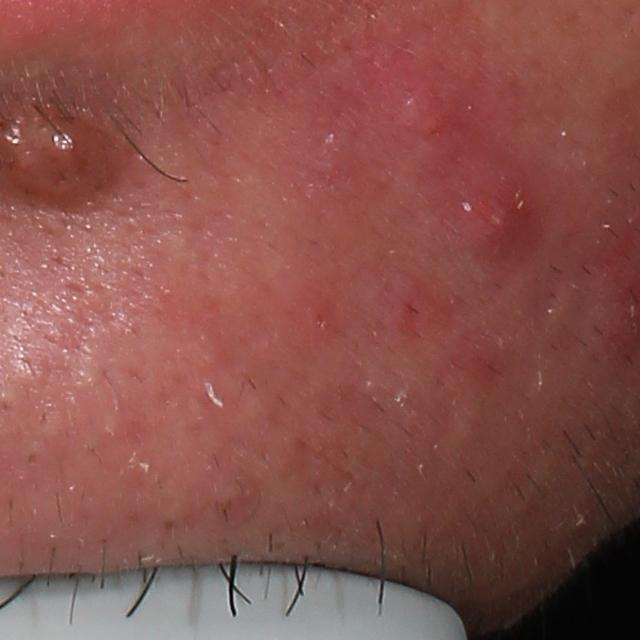papule: (465, 174, 549, 260), (390, 76, 453, 149)
